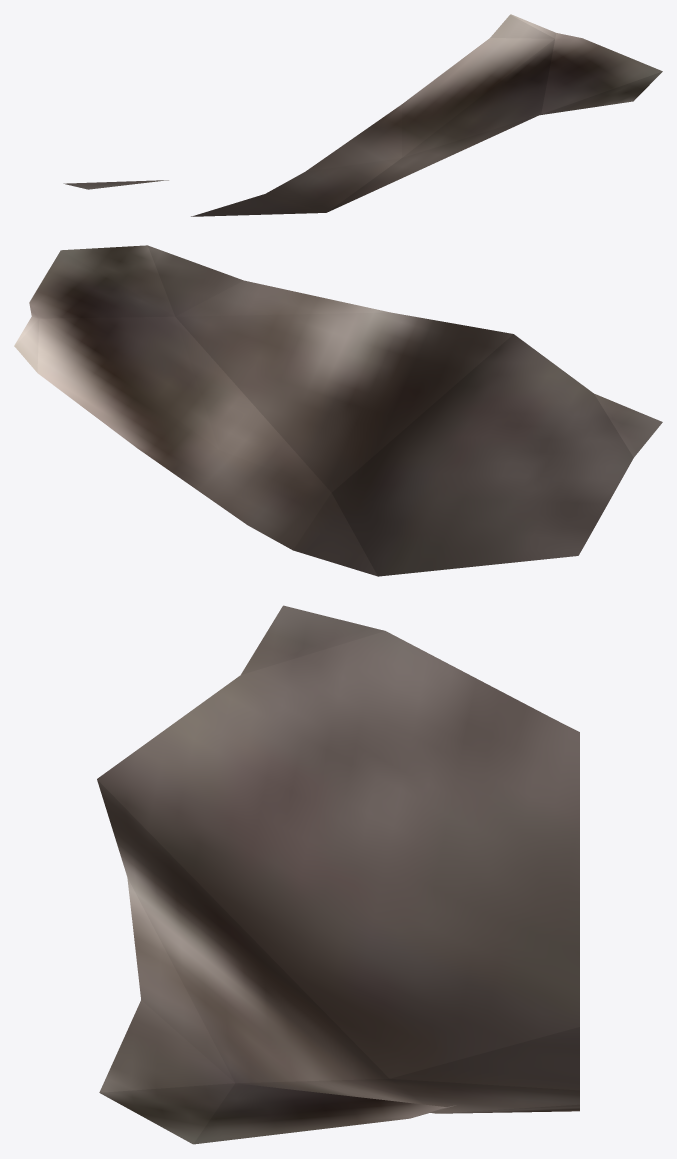
3 renders of one model, top to bottom at view 1: azimuth 30°, elevation 25°; view 2: azimuth 150°, elevation 25°; view 3: azimuth 270°, elevation 25°, orthographic. The views are drawn at different scales.
Size of the model in its own units: 0.1451 by 0.0313 by 0.055.
Materials: 1 (1 with a texture image).
